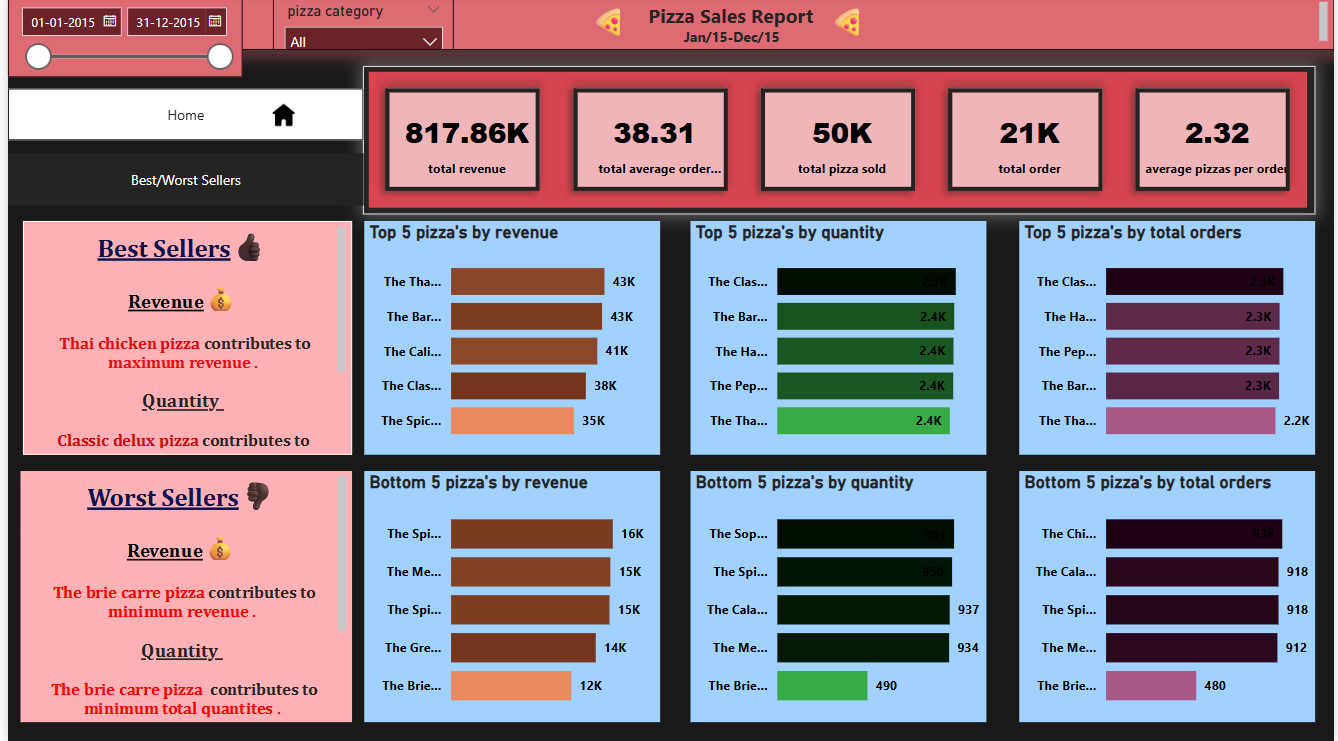

The page's visual inventory and layout, read from the dashboard file:
{"tool":"powerbi","page":{"name":"Best/Worst Sellers ","canvas":[1280,720],"ordinal":1},"visuals":[{"type":"cardVisual","fields":{"Data":["pizza_sales_excel_file.total revenue","pizza_sales_excel_file.total average order value","pizza_sales_excel_file.total pizza sold","pizza_sales_excel_file.total order","pizza_sales_excel_file.average pizzas per order"]},"box":[343,67.1,919,143],"z":0},{"type":"textbox","box":[0,0,1280,51.9],"z":1000},{"type":"textbox","box":[14.5,217.2,317.3,225.6],"z":2000},{"type":"textbox","box":[12.1,458.4,319.7,242.5],"z":3000},{"type":"slicer","fields":{"Values":["pizza_sales_excel_file.pizza_category"]},"box":[255.4,0,174.7,51.8],"z":4000},{"type":"slicer","fields":{"Values":["pizza_sales_excel_file.order_date"]},"box":[0,0,226.5,78.3],"z":5000},{"type":"barChart","title":"Top 5 pizza''s by revenue ","fields":{"Category":["pizza_sales_excel_file.pizza_name"],"Y":["pizza_sales_excel_file.total revenue"]},"box":[343.4,216.9,285.5,225.3],"z":6000},{"type":"barChart","title":"Bottom 5 pizza''s by revenue ","fields":{"Category":["pizza_sales_excel_file.pizza_name"],"Y":["pizza_sales_excel_file.total revenue"]},"box":[343.4,459,285.5,242.2],"z":7000},{"type":"barChart","title":"Top 5 pizza''s by quantity ","fields":{"Category":["pizza_sales_excel_file.pizza_name"],"Y":["pizza_sales_excel_file.total pizza sold"]},"box":[659,216.9,285.5,225.3],"z":8000},{"type":"barChart","title":"Bottom 5 pizza''s by quantity ","fields":{"Category":["pizza_sales_excel_file.pizza_name"],"Y":["pizza_sales_excel_file.total pizza sold"]},"box":[659,459,285.5,242.2],"z":9000},{"type":"barChart","title":"Top 5 pizza''s by total orders ","fields":{"Category":["pizza_sales_excel_file.pizza_name"],"Y":["pizza_sales_excel_file.total order"]},"box":[975.9,216.9,285.5,225.3],"z":10000},{"type":"barChart","title":"Bottom 5 pizza''s by total orders ","fields":{"Category":["pizza_sales_excel_file.pizza_name"],"Y":["pizza_sales_excel_file.total order"]},"box":[975.9,459,285.5,242.2],"z":11000},{"type":"pageNavigator","box":[0,151.8,343.4,50.6],"z":12000},{"type":"pageNavigator","box":[0,89.2,343.4,50.6],"z":13000},{"type":"textbox","box":[556.2,1.8,54.5,47.8],"z":14000},{"type":"textbox","box":[786.3,1.6,46.3,47.9],"z":15000},{"type":"image","box":[240,87.5,52.5,53.8],"z":16000}]}

Visuals, with their boxes in screenshot pixels (x1, y1, x2, y2), scaled from the page's 1280x720 canvas onto the 1338x741 screenshot:
cardVisual - pizza_sales_excel_file.total revenue x pizza_sales_excel_file.total average order value: [359,69,1319,216]
textbox: [0,0,1337,53]
textbox: [15,224,347,456]
textbox: [13,472,347,721]
slicer - pizza_sales_excel_file.pizza_category: [267,0,450,53]
slicer - pizza_sales_excel_file.order_date: [0,0,237,81]
"Top 5 pizza''s by revenue " barChart: [359,223,657,455]
"Bottom 5 pizza''s by revenue " barChart: [359,472,657,722]
"Top 5 pizza''s by quantity " barChart: [689,223,987,455]
"Bottom 5 pizza''s by quantity " barChart: [689,472,987,722]
"Top 5 pizza''s by total orders " barChart: [1020,223,1319,455]
"Bottom 5 pizza''s by total orders " barChart: [1020,472,1319,722]
pageNavigator: [0,156,359,208]
pageNavigator: [0,92,359,144]
textbox: [581,2,638,51]
textbox: [822,2,870,51]
image: [251,90,306,145]
